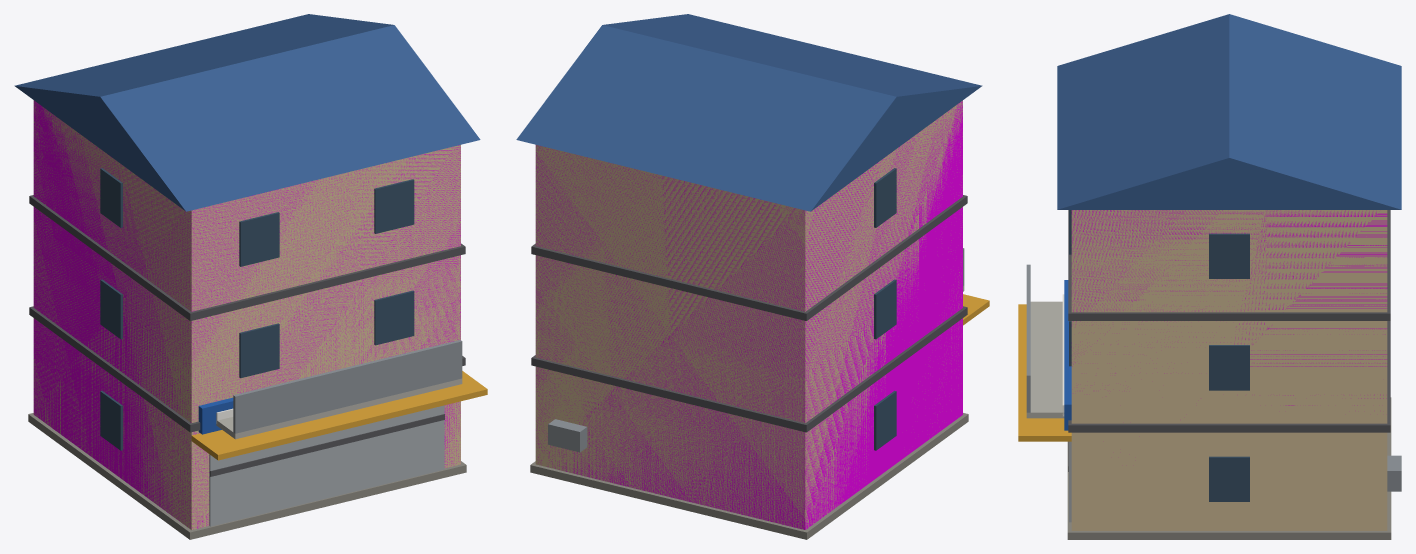
File: MixedUse_3S_02.glb
3 renders of one model, left to right at view 1: azimuth 30°, elevation 25°; view 2: azimuth 150°, elevation 25°; view 3: azimuth 270°, elevation 25°, orthographic.
Visible parts, largest first — view 1: MixedUse_3S_02, MixedUse_3S_02_COL; view 2: MixedUse_3S_02, MixedUse_3S_02_COL; view 3: MixedUse_3S_02, MixedUse_3S_02_COL.
Part boxes in pixels (x1=…): MixedUse_3S_02: x1=14, y1=14, x2=487, y2=539; MixedUse_3S_02_COL: x1=33, y1=101, x2=460, y2=529; MixedUse_3S_02: x1=516, y1=14, x2=989, y2=539; MixedUse_3S_02_COL: x1=535, y1=101, x2=962, y2=529; MixedUse_3S_02: x1=1018, y1=14, x2=1401, y2=539; MixedUse_3S_02_COL: x1=1071, y1=210, x2=1387, y2=405.
Bounding box in the file's own units: 8.3 × 10.4 × 9.35.
